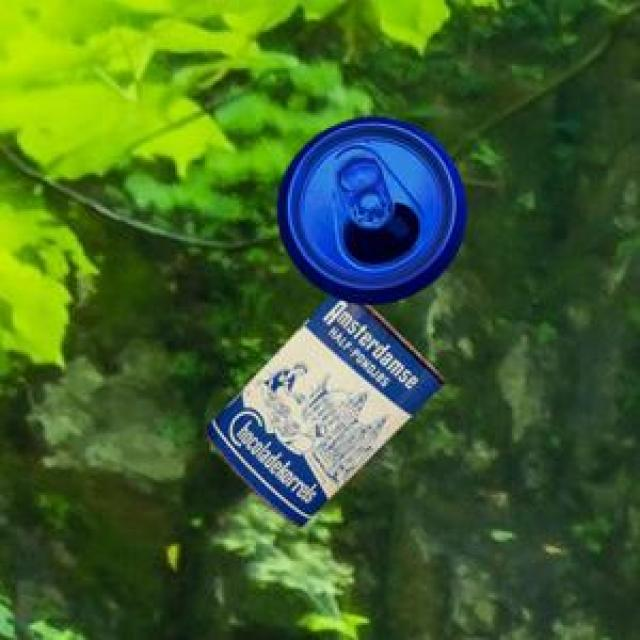logam: (202, 291, 443, 524), (274, 114, 464, 302)
